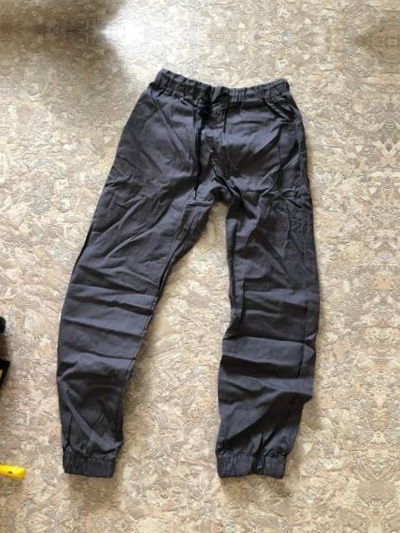Pants: (19, 63, 356, 488), (36, 0, 373, 6)
